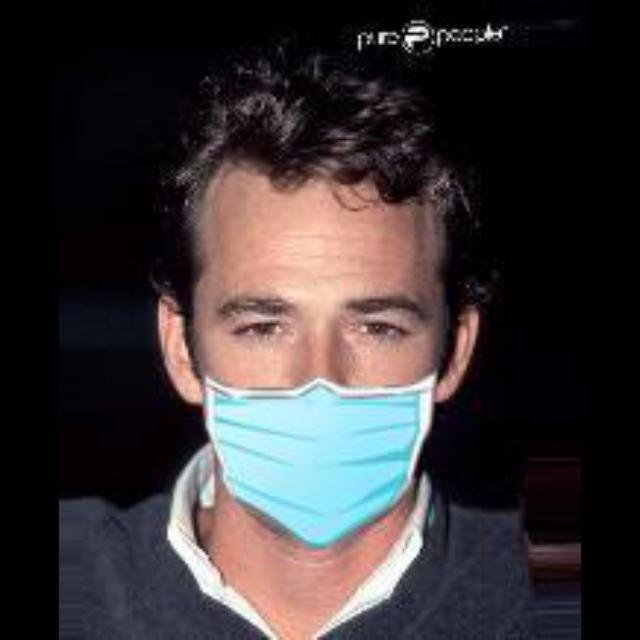suspicion: (161, 129, 483, 537)
